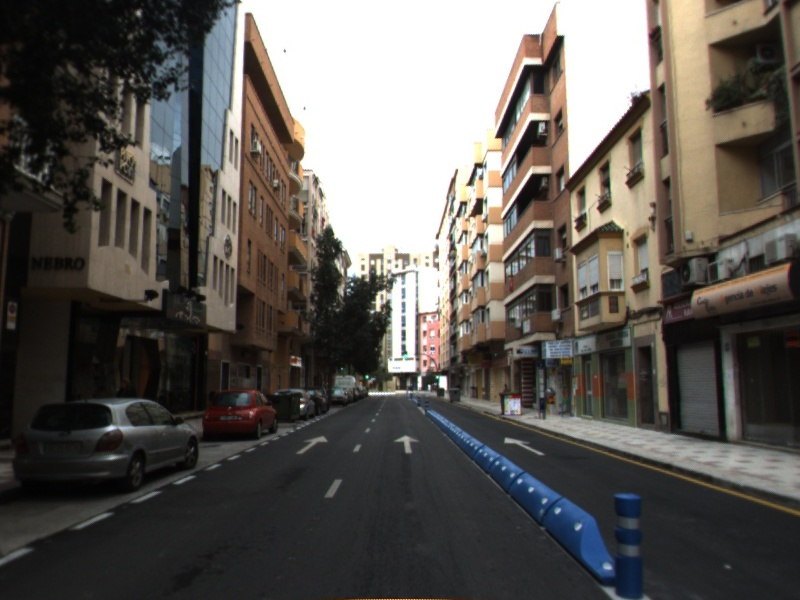STRAIGHT: (503, 435, 547, 457), (295, 434, 330, 455), (392, 433, 422, 455)
